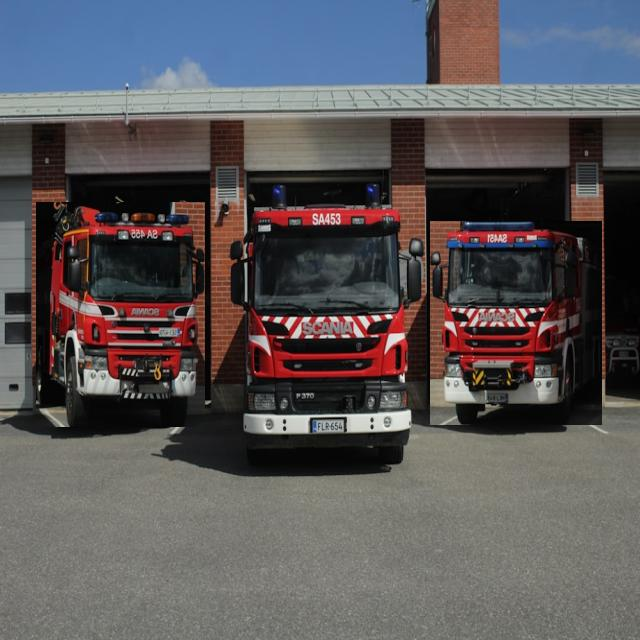emergency: (230, 174, 425, 465), (36, 203, 205, 427), (430, 221, 602, 425)
